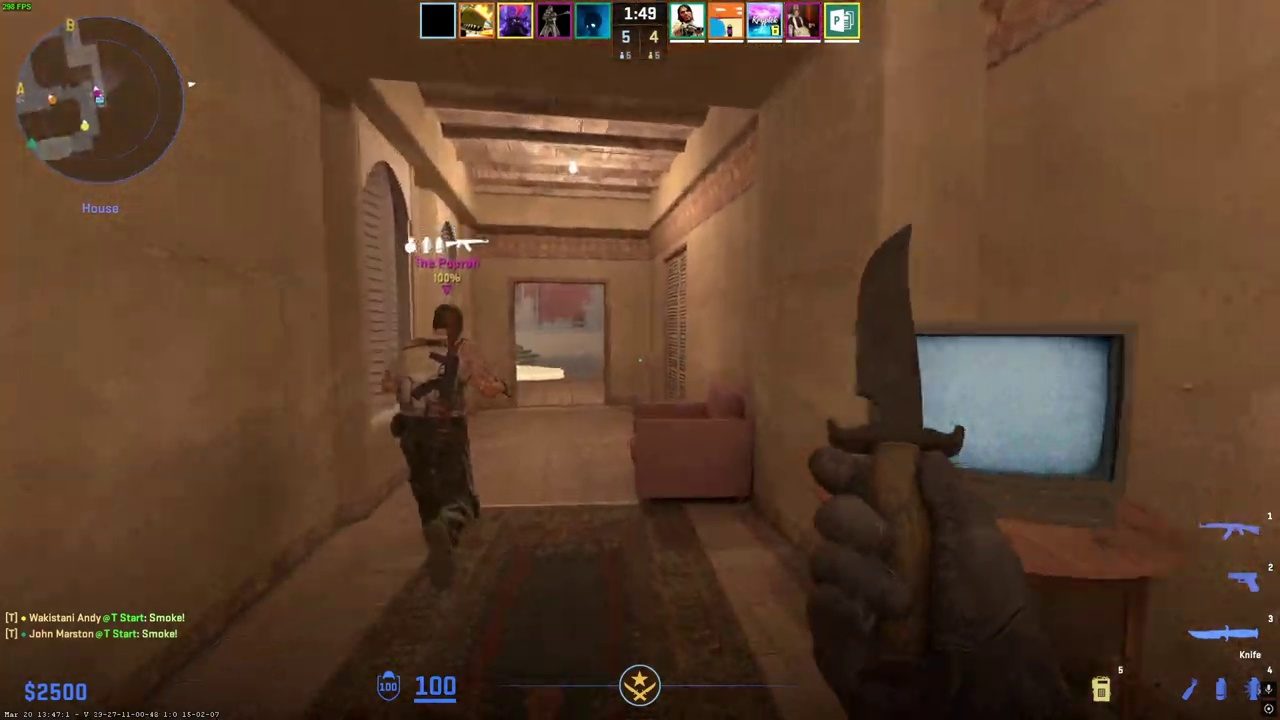Terrorist: (388, 303, 493, 591)
